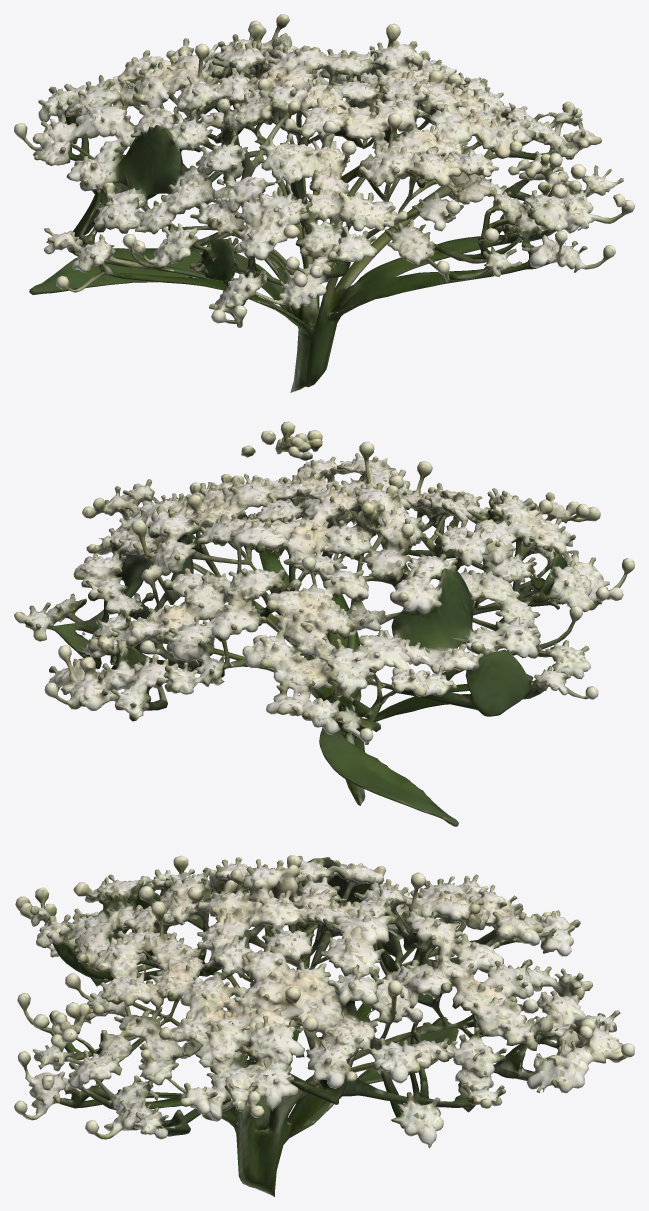
3 renders of one model, top to bottom at view 1: azimuth 30°, elevation 25°; view 2: azimuth 150°, elevation 25°; view 3: azimuth 270°, elevation 25°, orthographic. The views are drawn at different scales.
Visible parts, largest first — view 1: Meshy_AI_Elderflower_0210154048_texture; view 2: Meshy_AI_Elderflower_0210154048_texture; view 3: Meshy_AI_Elderflower_0210154048_texture.
Part boxes in pixels (bbox=[...]): Meshy_AI_Elderflower_0210154048_texture: bbox=[14, 14, 634, 392]; Meshy_AI_Elderflower_0210154048_texture: bbox=[14, 421, 634, 826]; Meshy_AI_Elderflower_0210154048_texture: bbox=[14, 855, 634, 1196].
Bounding box in the file's own units: 2 × 1.16 × 2.
